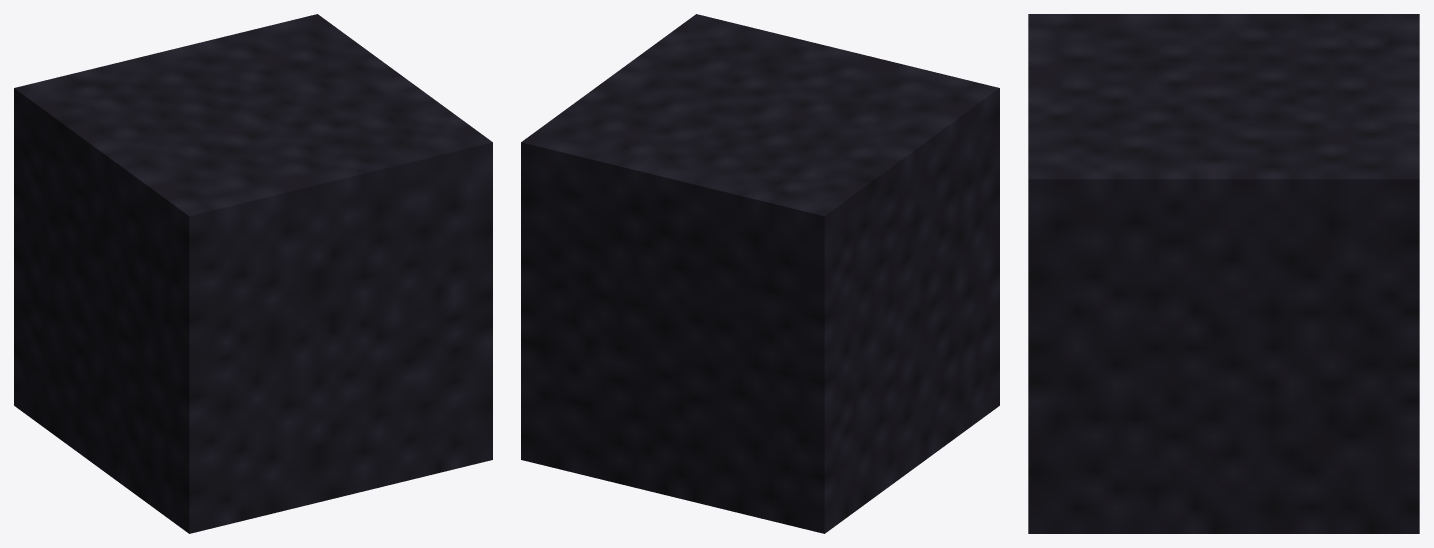
The model's file is Graveyard_terrain.dae.
3 views of the same model, side by side, from view 1: azimuth 30°, elevation 25°; view 2: azimuth 150°, elevation 25°; view 3: azimuth 270°, elevation 25° (orthographic). The views are drawn at different scales.
Visible parts, largest first — view 1: Graveyard_terrain; view 2: Graveyard_terrain; view 3: Graveyard_terrain.
Part boxes in pixels (bbox=[...]): Graveyard_terrain: bbox=[14, 14, 492, 533]; Graveyard_terrain: bbox=[521, 14, 999, 533]; Graveyard_terrain: bbox=[1028, 14, 1419, 533].
Bounding box in the file's own units: 20 × 20 × 20.
1 material, 1 textured.
